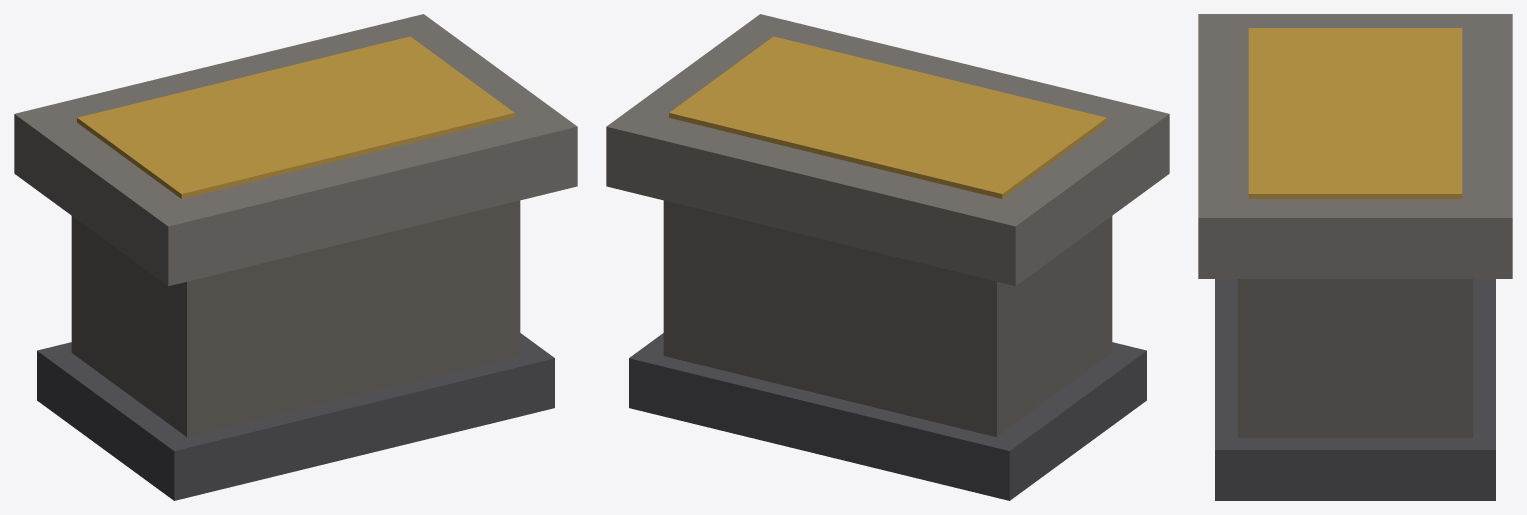
File: dungeon_altar.obj
The picture shows the model from 3 angles, left to right: view 1: azimuth 30°, elevation 25°; view 2: azimuth 150°, elevation 25°; view 3: azimuth 270°, elevation 25°; orthographic projection. The views are drawn at different scales.
Visible parts, largest first — view 1: dungeon_altar; view 2: dungeon_altar; view 3: dungeon_altar.
Boxes of the visible parts, x1,y1,x2,y2 form: dungeon_altar: [14, 14, 577, 500]; dungeon_altar: [606, 14, 1169, 500]; dungeon_altar: [1198, 14, 1512, 500].
Size of the model in its own units: 0.86 by 0.58 by 0.56.
